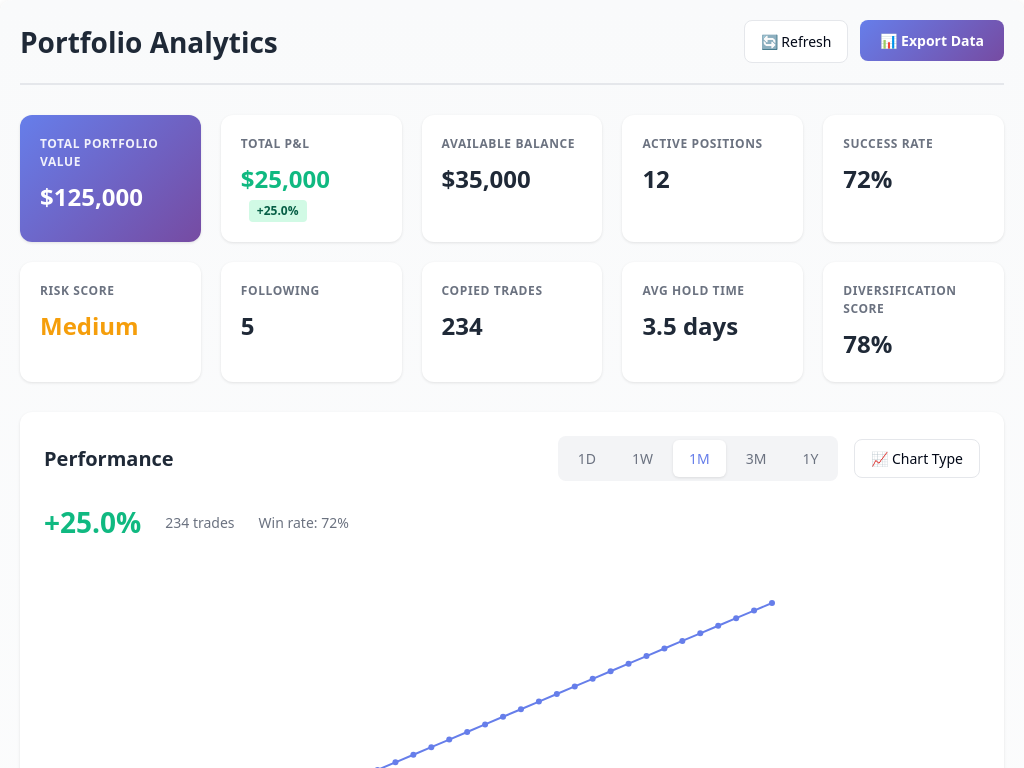
Test: PortfolioAnalytics › Performance Chart › should update chart when period is changed
Click the button "1W" at (642, 458), box [616,440,669,477]
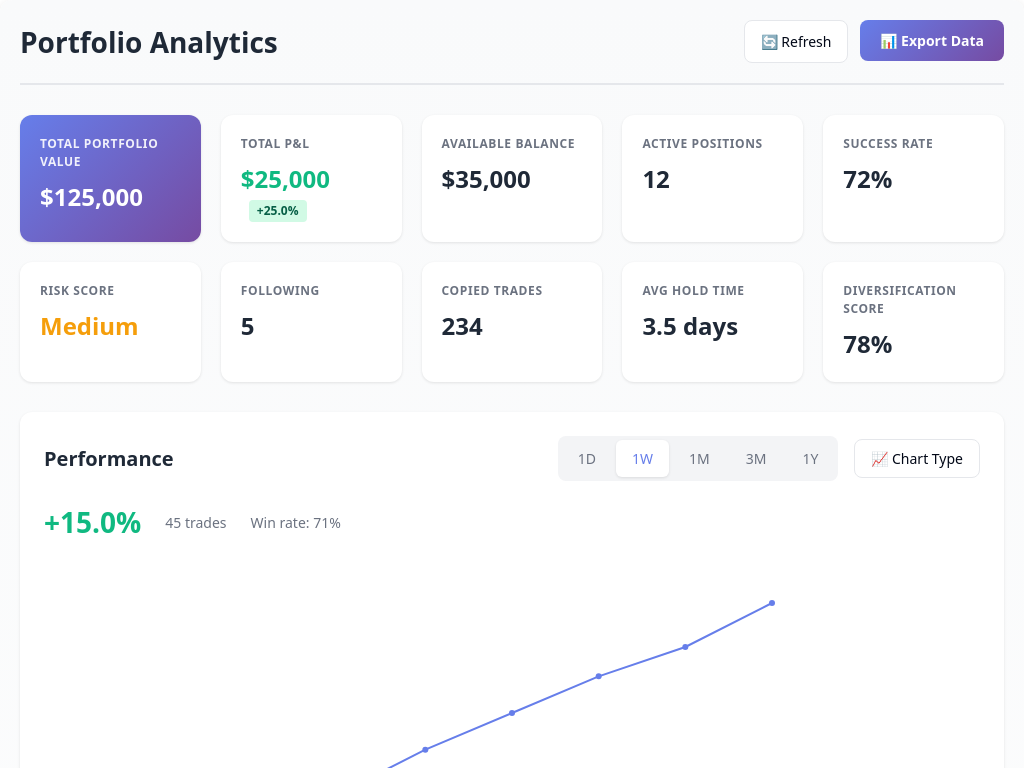
Expected: the text "+15.0%" is shown, [44,501,141,543]
